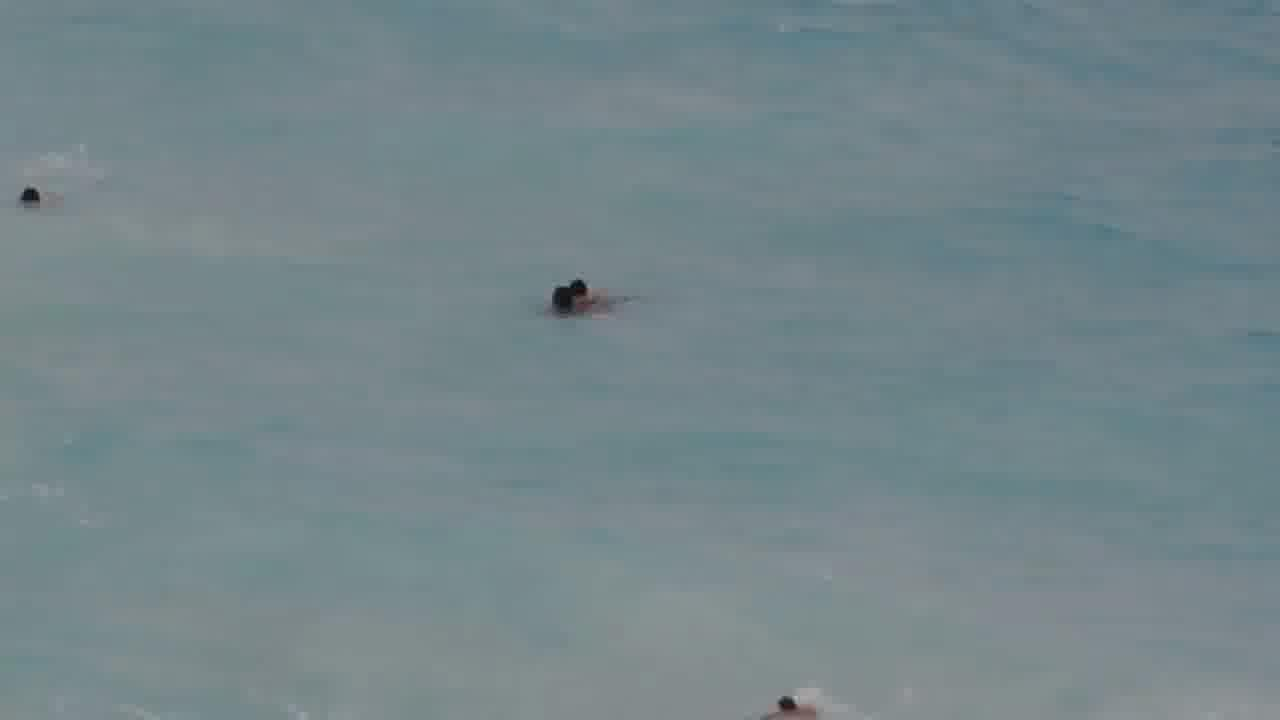human: (749, 689, 824, 719), (531, 285, 580, 322), (570, 268, 618, 304), (18, 178, 52, 210)
